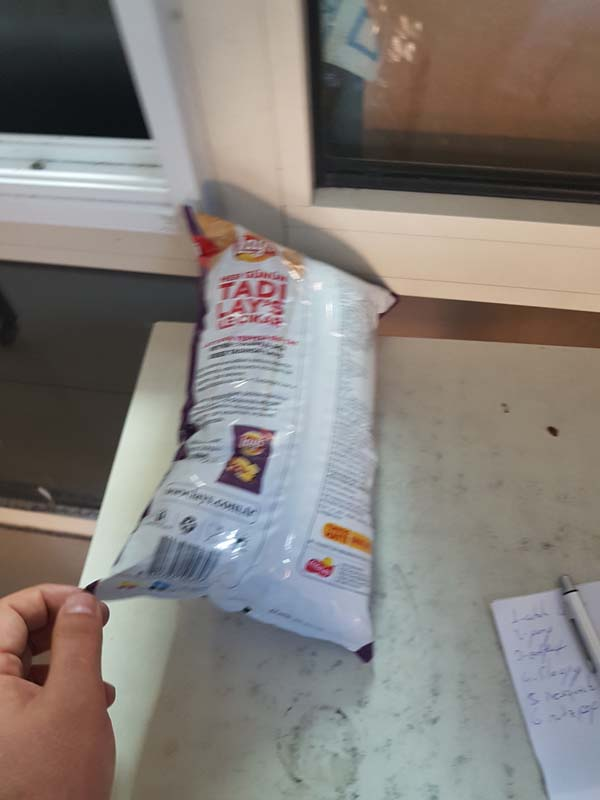layspeynirsoslu: (127, 202, 397, 671)
